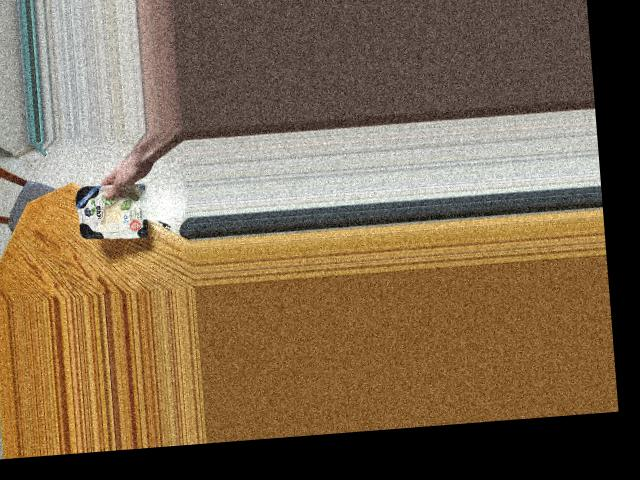cheese: (58, 178, 164, 243)
